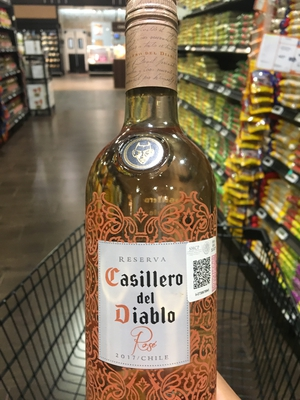casillero del diablo rose: (76, 13, 231, 400)
